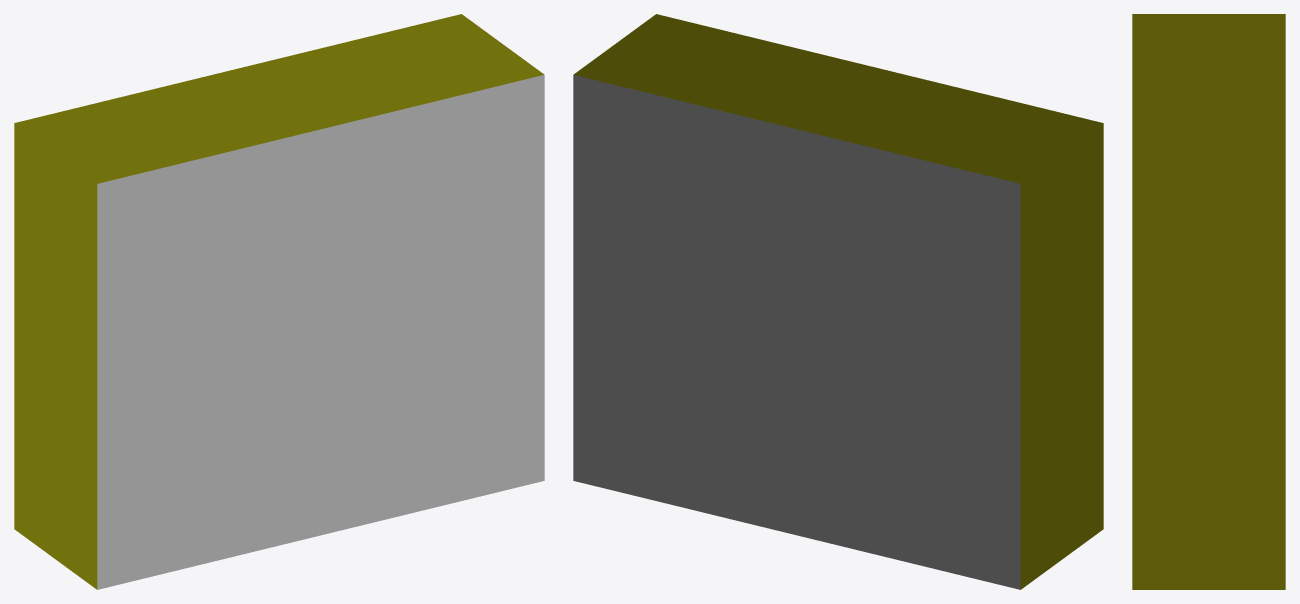
The model's file is idf.obj.
3 views of the same model, side by side, from view 1: azimuth 30°, elevation 25°; view 2: azimuth 150°, elevation 25°; view 3: azimuth 270°, elevation 25° (orthographic). The views are drawn at different scales.
Bounding box in the file's own units: 4.98 × 4.32 × 1.6.
